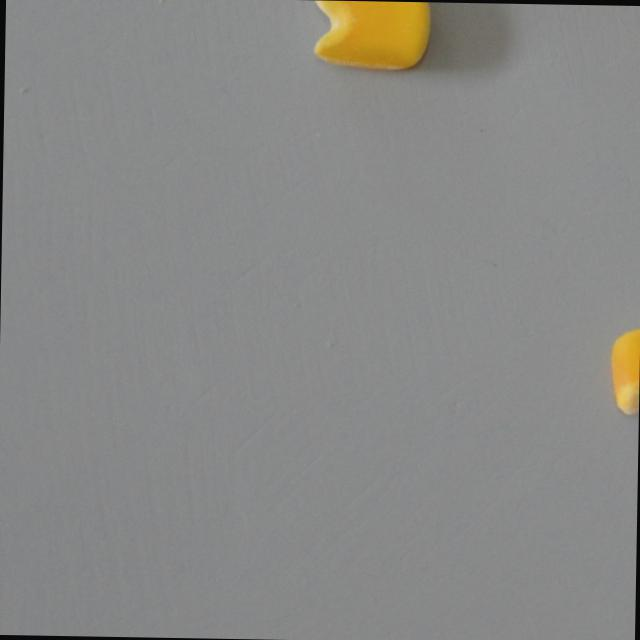no_canjicado: (310, 0, 432, 71), (611, 324, 640, 417)
